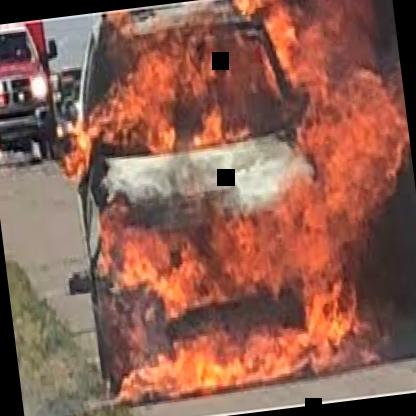fire: (75, 0, 382, 393)
